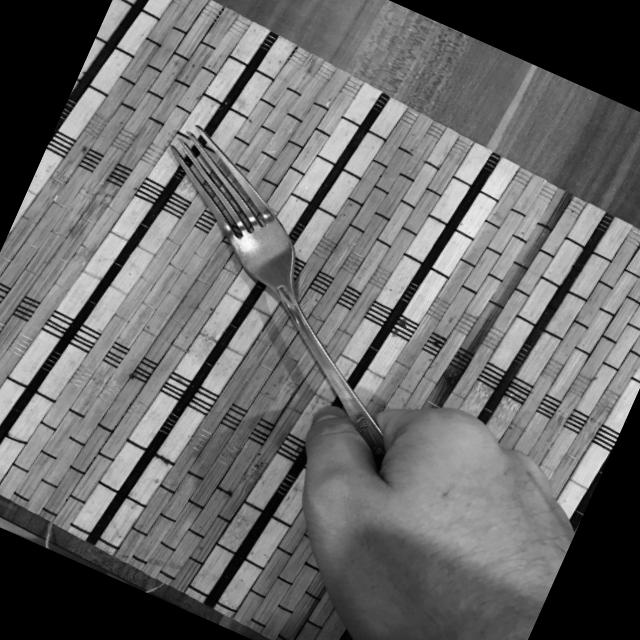fork: (79, 118, 500, 489)
